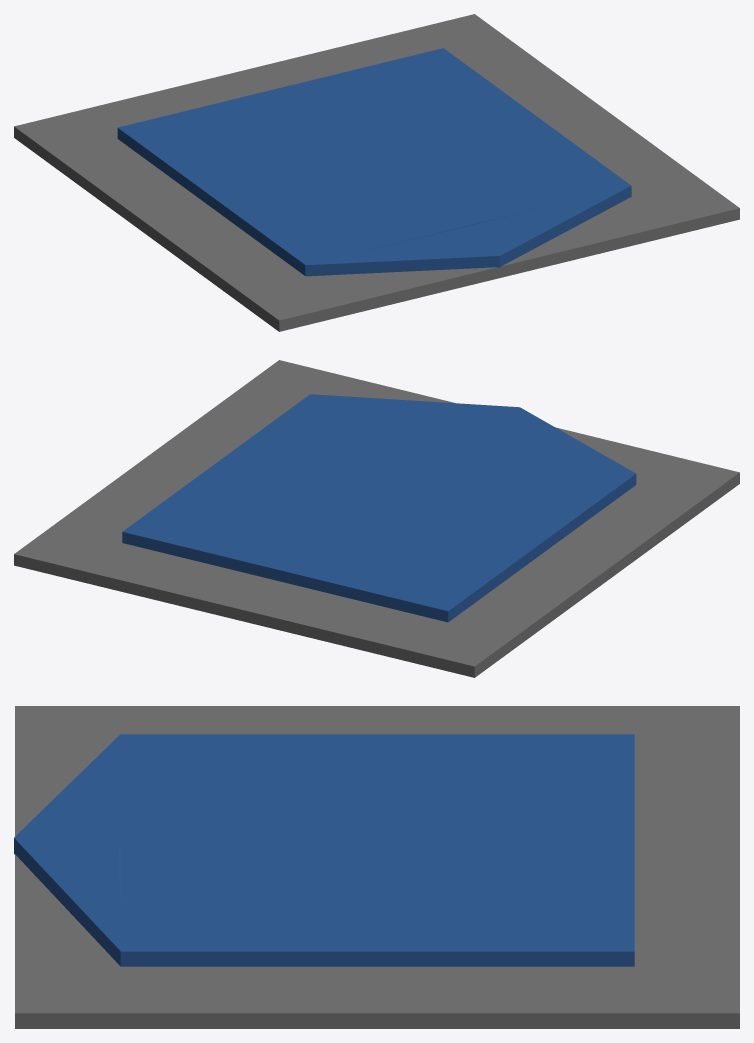
The model's file is spawn.fbx.
3 renders of one model, top to bottom at view 1: azimuth 30°, elevation 25°; view 2: azimuth 150°, elevation 25°; view 3: azimuth 270°, elevation 25°, orthographic. The views are drawn at different scales.
Visible parts, largest first — view 1: Cube.001, Cube; view 2: Cube.001, Cube; view 3: Cube.001, Cube.
Boxes of the visible parts, x1,y1,x2,y2 form: Cube.001: [117, 48, 631, 276]; Cube: [14, 14, 739, 331]; Cube.001: [122, 394, 636, 622]; Cube: [14, 360, 739, 677]; Cube.001: [14, 734, 634, 966]; Cube: [15, 706, 739, 1028].
Bounding box in the file's own units: 196 × 9.19 × 196.
